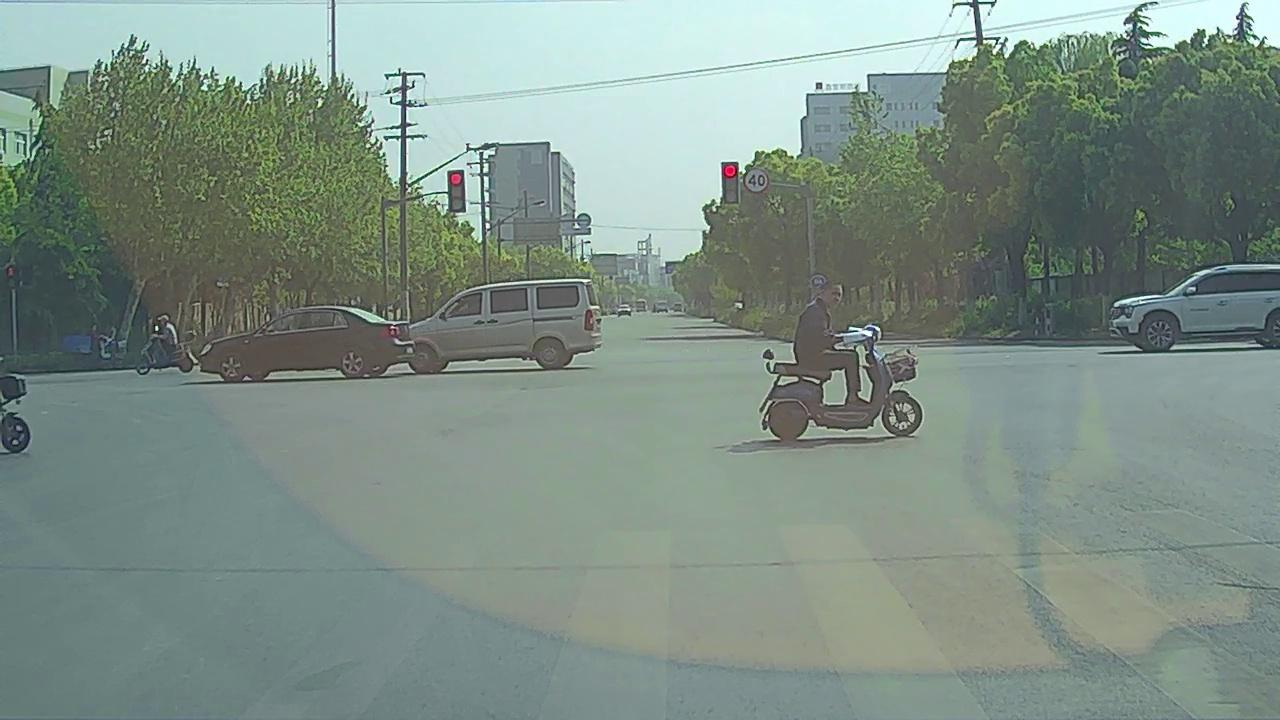traffic_light: (447, 171, 466, 213), (721, 161, 739, 203)
